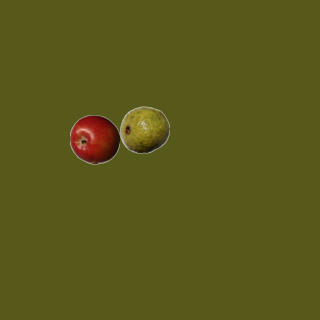Apple Braeburn: (69, 114, 119, 164)
Guava: (119, 104, 169, 154)
